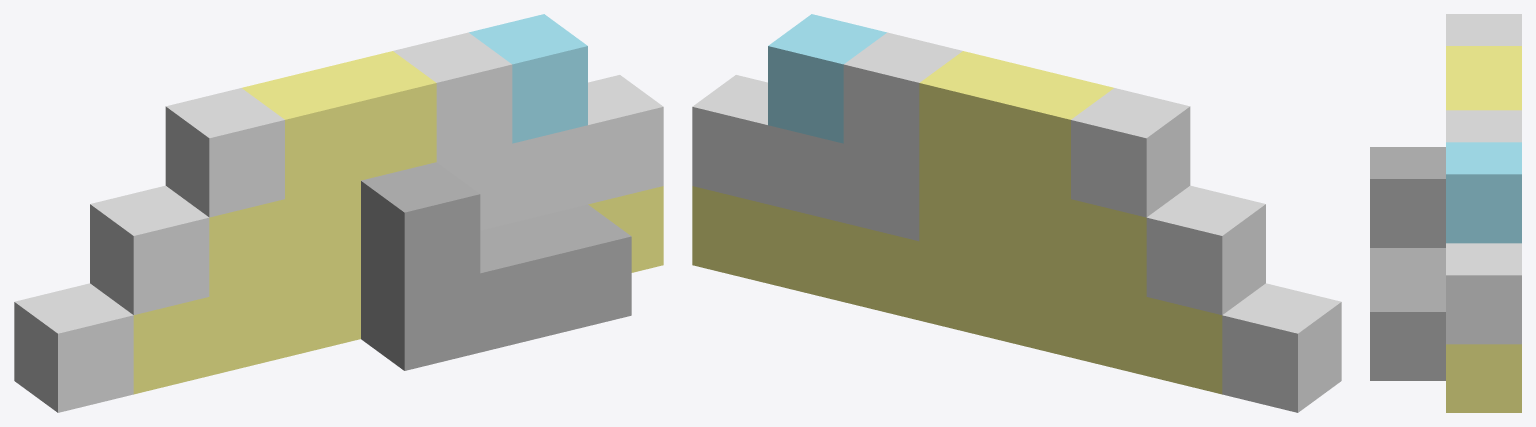
File: YellowHouseParts-108.obj
3 views of the same model, side by side, from view 1: azimuth 30°, elevation 25°; view 2: azimuth 150°, elevation 25°; view 3: azimuth 270°, elevation 25° (orthographic). The views are drawn at different scales.
Bounding box in the file's own units: 0.8 × 0.3 × 0.2.
1 material, 1 textured.
